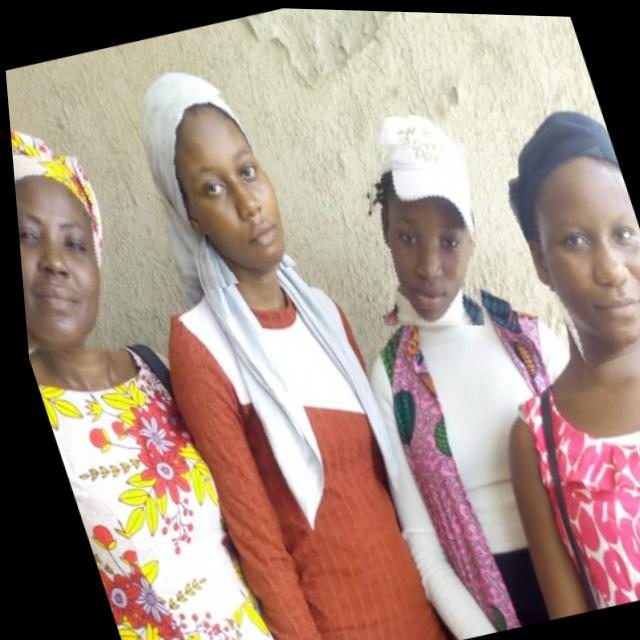happy: (496, 138, 640, 369), (9, 134, 145, 367)
sad: (332, 123, 507, 341), (139, 84, 301, 291)
